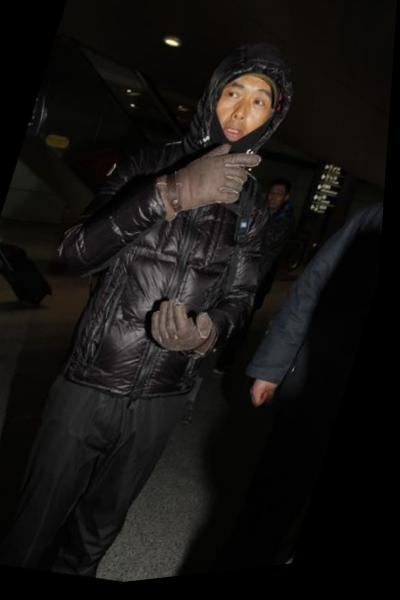NONE: (267, 191, 291, 218)
WRONG: (204, 72, 283, 169)
